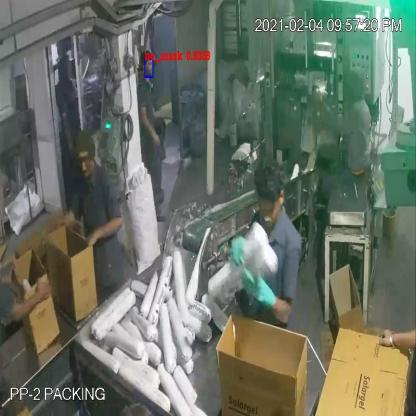glove: (238, 259, 280, 317), (224, 232, 249, 271)
no_glove: (3, 260, 53, 334), (376, 304, 416, 370), (83, 214, 127, 252), (137, 98, 162, 155), (56, 102, 76, 158), (56, 205, 77, 227)
